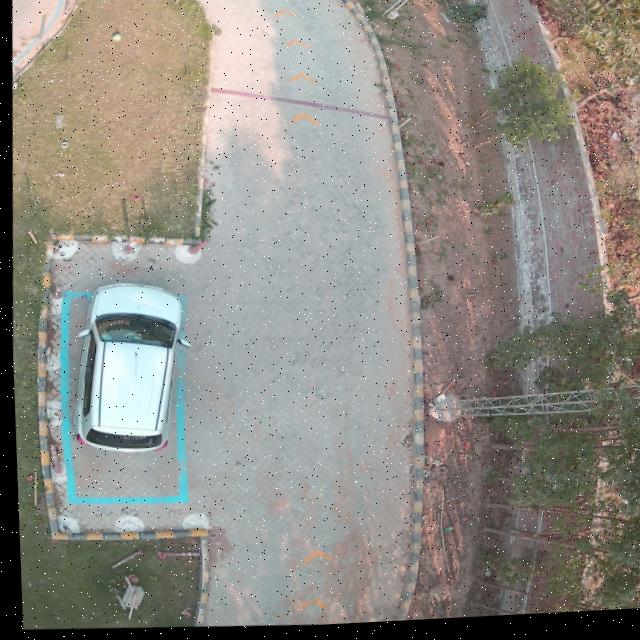car: (69, 289, 177, 456)
